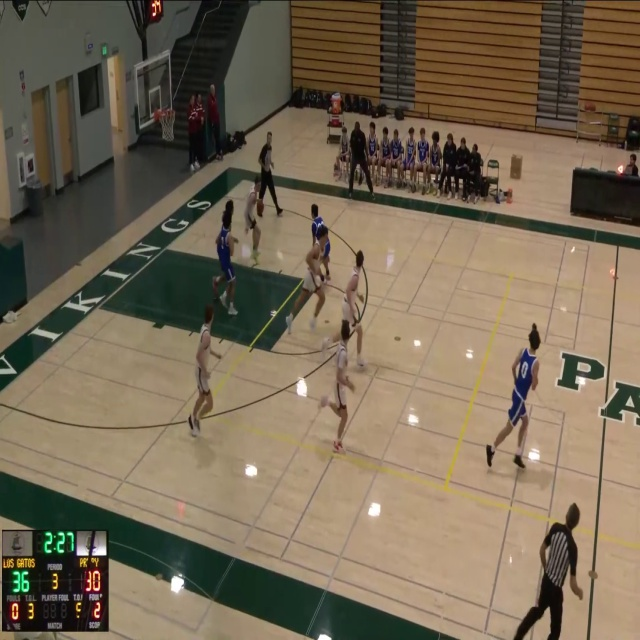Basketball: (256, 199, 264, 216)
